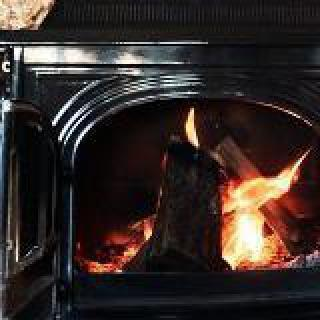fire: (216, 108, 316, 268), (82, 202, 162, 280)
